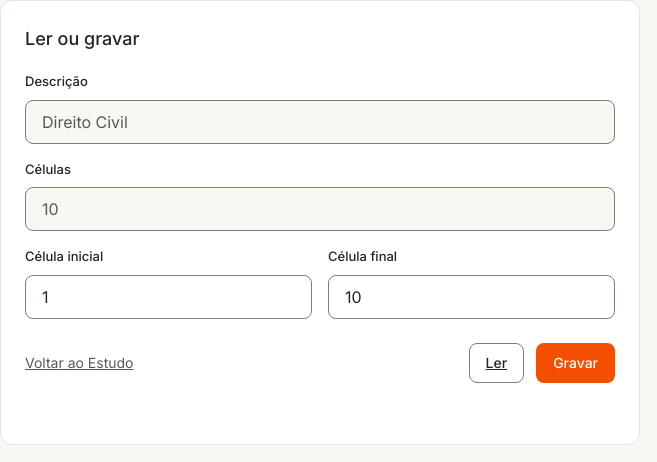
Test: VozView: campos e validação › digitar inicial 5 com final 3 reajusta a final para 6
The width and height of the screenshot is (657, 462).
Replace the text in the field labelled "Célula final" with "3" at [472, 296], box [328,274,615,318]
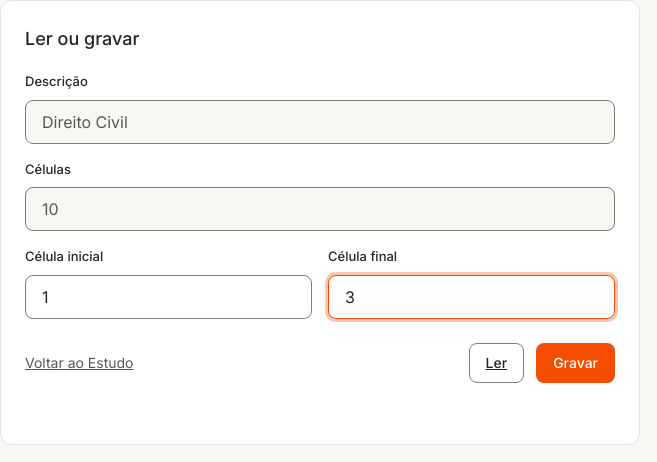
Expected: the field labelled "Célula final" does not have attribute aria-invalid, [328,274,615,318]
Replace the text in the field labelled "Célula inicial" with "5" at [168, 296], box [25,274,312,318]
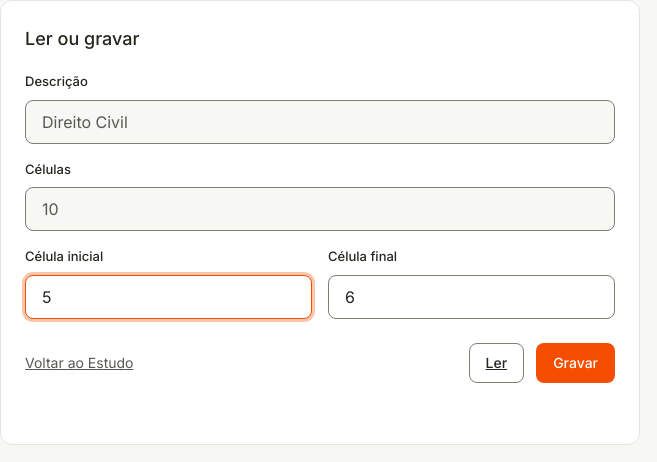
Expected: the field labelled "Célula final" holds "6", [328,274,615,318]
